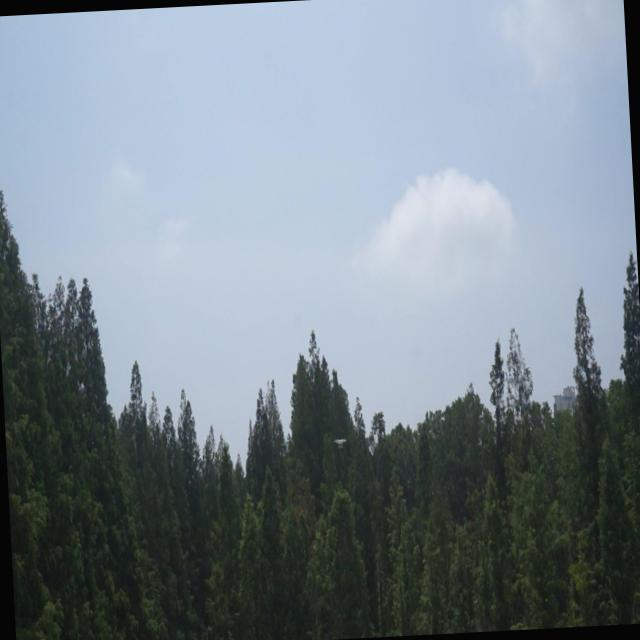drone: (332, 433, 348, 451)
